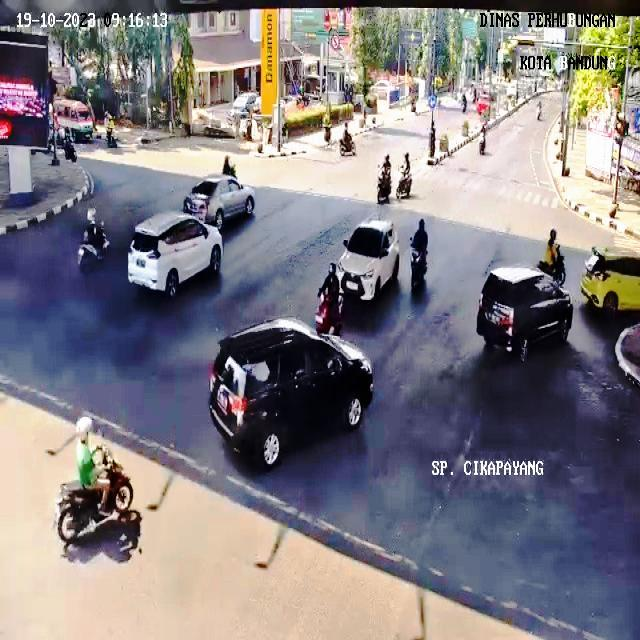car: (209, 318, 374, 469), (476, 268, 572, 359), (128, 211, 222, 295), (338, 219, 399, 300), (182, 175, 255, 228), (580, 248, 640, 312), (399, 29, 422, 47)
minibus: (56, 99, 94, 141)
motorcycle: (56, 446, 132, 543)
motorcyclist: (78, 208, 110, 271), (315, 262, 342, 334), (75, 416, 98, 487), (538, 229, 566, 286), (411, 219, 428, 292), (378, 155, 391, 203), (340, 122, 355, 156), (104, 112, 118, 148), (396, 174, 412, 198), (64, 138, 76, 162)
